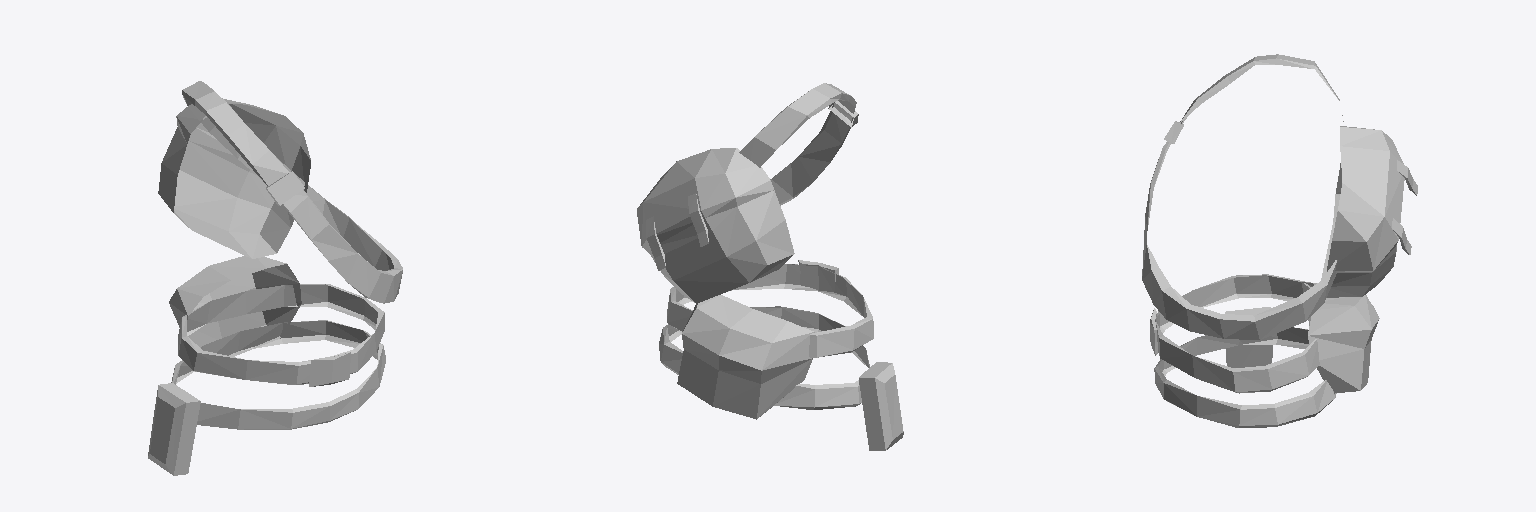
File: rebelbackpack_f.obj
3 views of the same model, side by side, from view 1: azimuth 30°, elevation 25°; view 2: azimuth 150°, elevation 25°; view 3: azimuth 270°, elevation 25° (orthographic).
Visible parts, largest first — view 1: female_01_reference; view 2: female_01_reference; view 3: female_01_reference.
Part boxes in pixels (x1,y1,x2,y2): female_01_reference: (148,81,402,475); female_01_reference: (637,83,903,450); female_01_reference: (1142,54,1417,427).
Bounding box in the file's own units: 15.09 × 22.04 × 15.61.